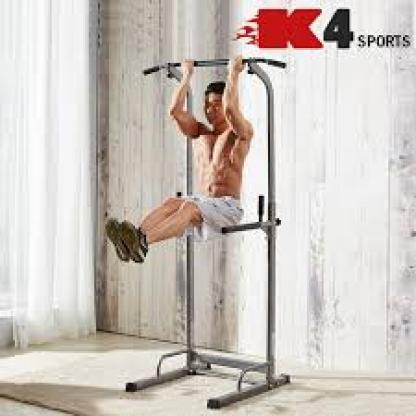chinning dipping: (144, 54, 292, 409)
